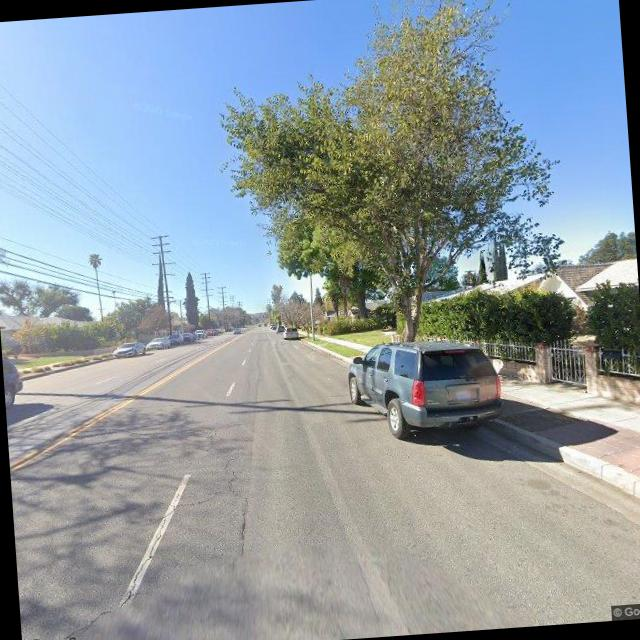pothole: (19, 495, 195, 640), (209, 423, 251, 578)
